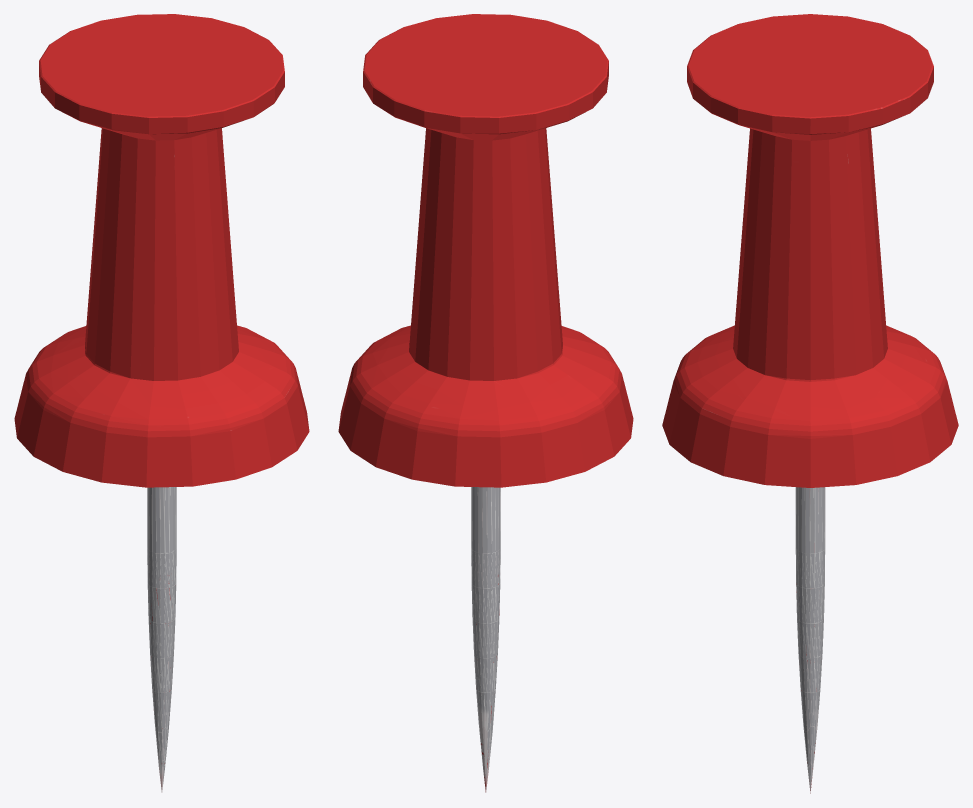
Rendered from pushpin.obj.
3 renders of one model, left to right at view 1: azimuth 30°, elevation 25°; view 2: azimuth 150°, elevation 25°; view 3: azimuth 270°, elevation 25°, orthographic.
Parts seen in each view (by area): view 1: pushpin; view 2: pushpin; view 3: pushpin.
Boxes of the visible parts, x1,y1,x2,y2 form: pushpin: (14, 14, 309, 792); pushpin: (338, 14, 633, 792); pushpin: (662, 14, 958, 793).
Size of the model in its own units: 0.4066 by 1.1 by 0.4066.
1 material, 1 textured.
